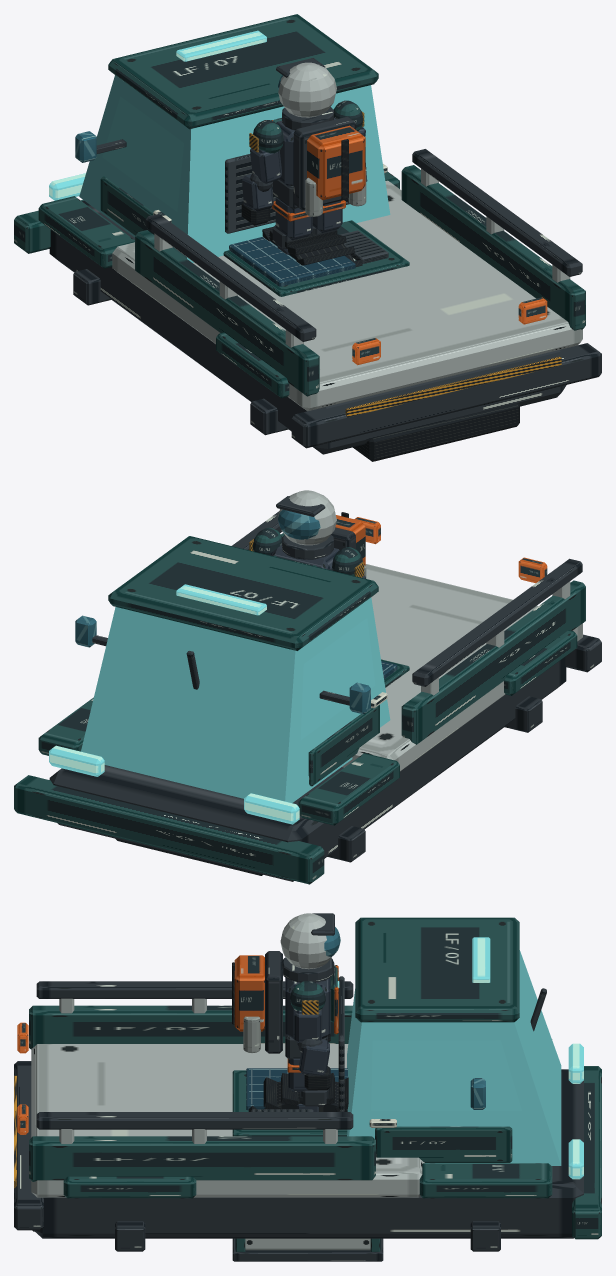
Rendered from lunar-kit.glb.
3 views of the same model, one above another, from view 1: azimuth 30°, elevation 25°; view 2: azimuth 150°, elevation 25°; view 3: azimuth 270°, elevation 25° (orthographic).
Visible parts, largest first — view 1: RoverBody_Geometry, NPC_Geometry, Habitat_Geometry, Wheel_Geometry; view 2: RoverBody_Geometry, NPC_Geometry; view 3: RoverBody_Geometry, NPC_Geometry, Habitat_Geometry, Wheel_Geometry.
Boxes of the visible parts, x1=… form: RoverBody_Geometry: x1=14, y1=14, x2=601, y2=461; NPC_Geometry: x1=241, y1=58, x2=367, y2=254; Habitat_Geometry: x1=223, y1=220, x2=409, y2=296; Wheel_Geometry: x1=262, y1=226, x2=362, y2=266; RoverBody_Geometry: x1=14, y1=511, x2=601, y2=884; NPC_Geometry: x1=249, y1=490, x2=366, y2=578; RoverBody_Geometry: x1=14, y1=917, x2=601, y2=1251; NPC_Geometry: x1=232, y1=913, x2=340, y2=1111; Habitat_Geometry: x1=232, y1=1068, x2=383, y2=1261; Wheel_Geometry: x1=248, y1=1073, x2=348, y2=1111.
Bounding box in the file's own units: 2.3 × 2.37 × 3.9.
Materials: 4 (4 with a texture image).
